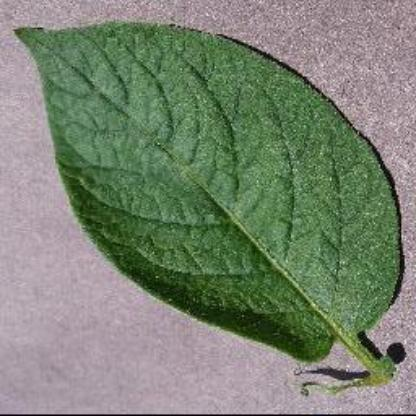Healthy-plant: (17, 20, 403, 386)
